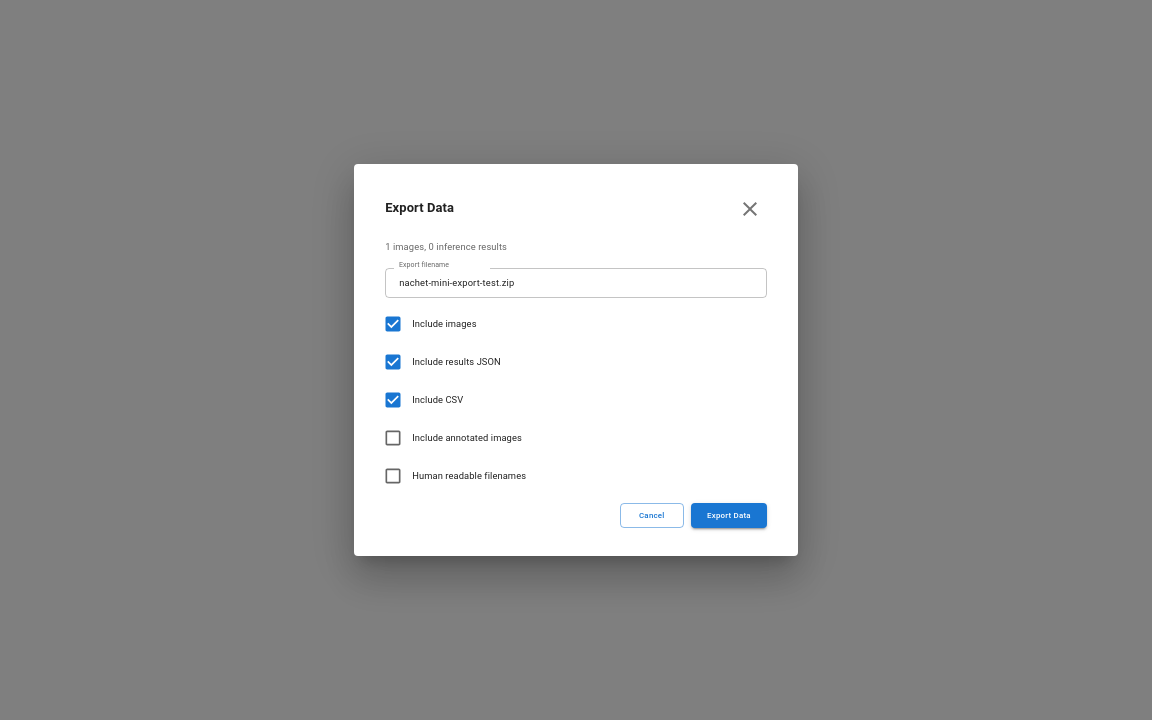
it: ExportDialog › checkboxes › disables the Export button when all checkboxes are unchecked
Click the checkbox labelled "Include images" at (430, 324), box [383,314,477,334]
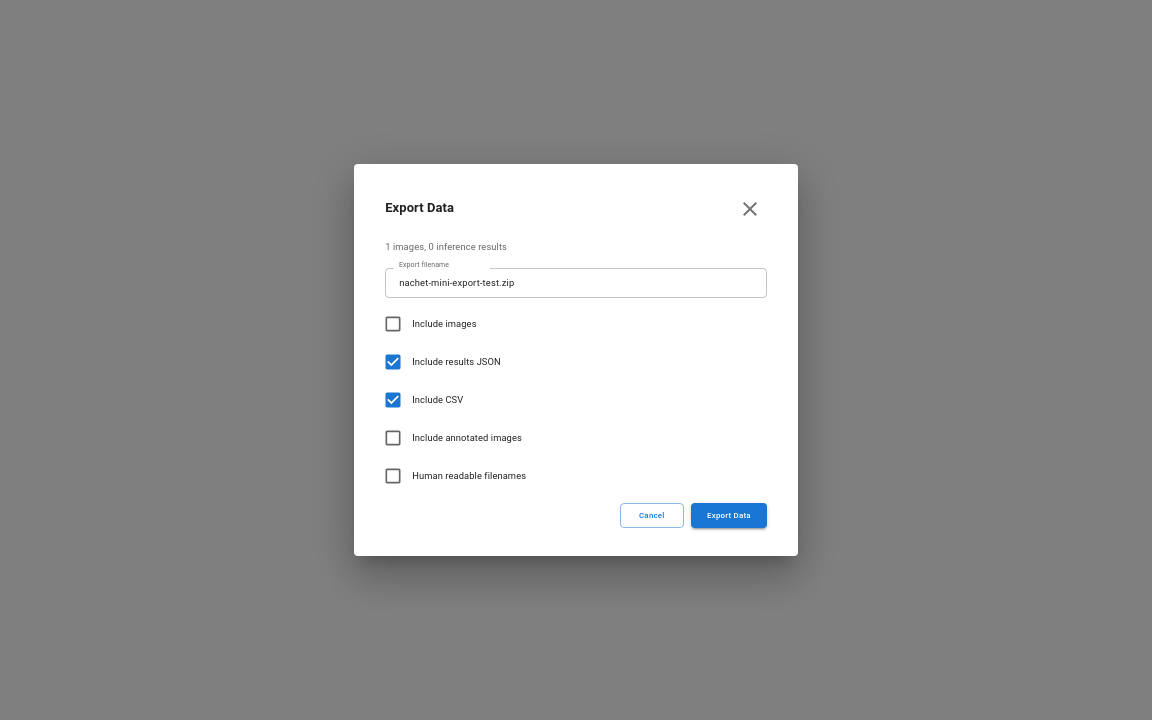
Click the checkbox labelled "Include results JSON" at (442, 362), box [383,352,501,372]
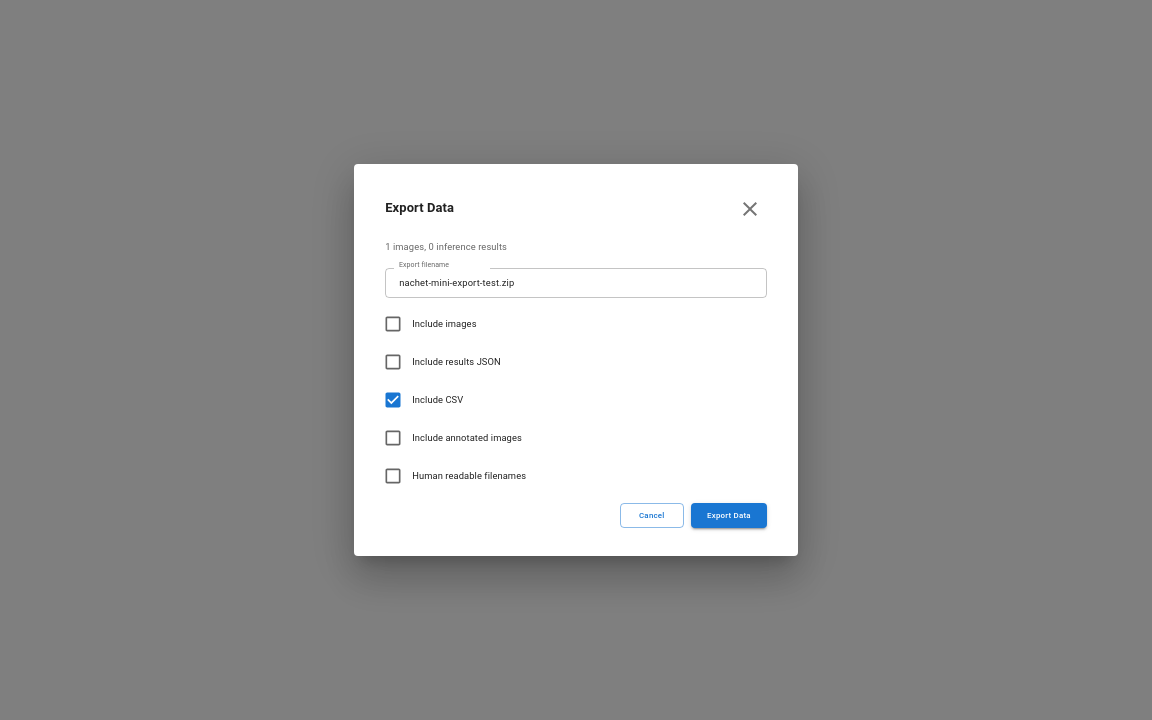
Click the checkbox labelled "Include CSV" at (423, 400), box [383,390,463,410]
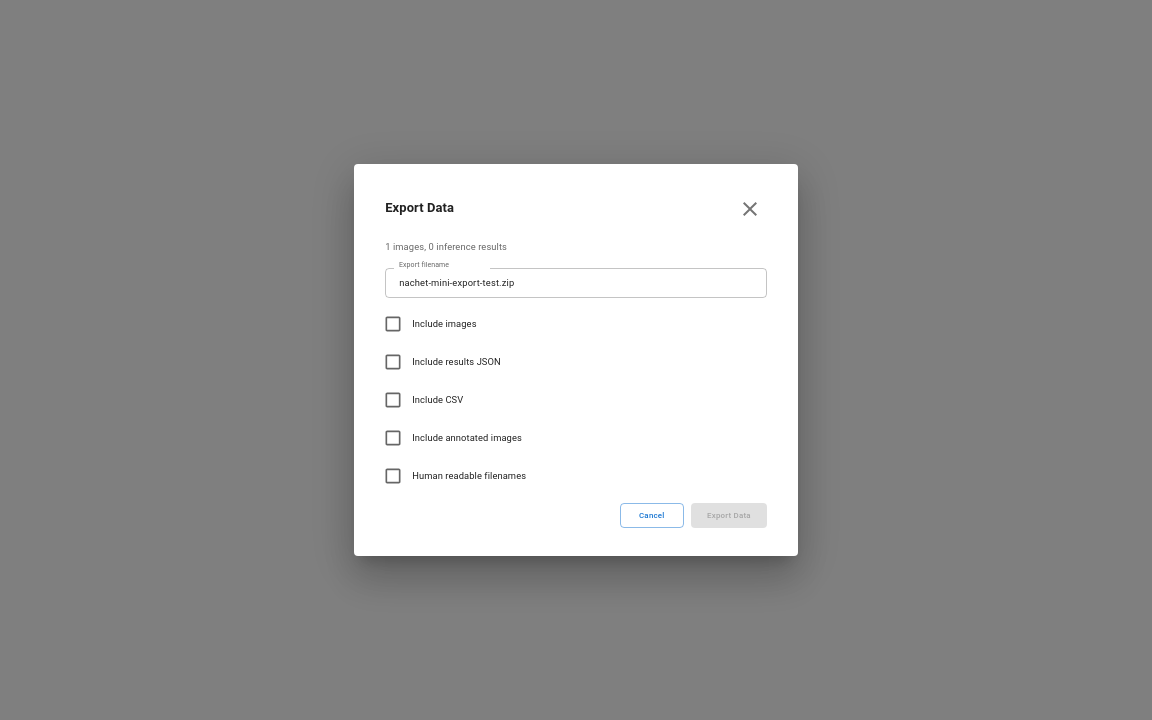
Result: the button "Export Data" is disabled at [691,503,767,528]
